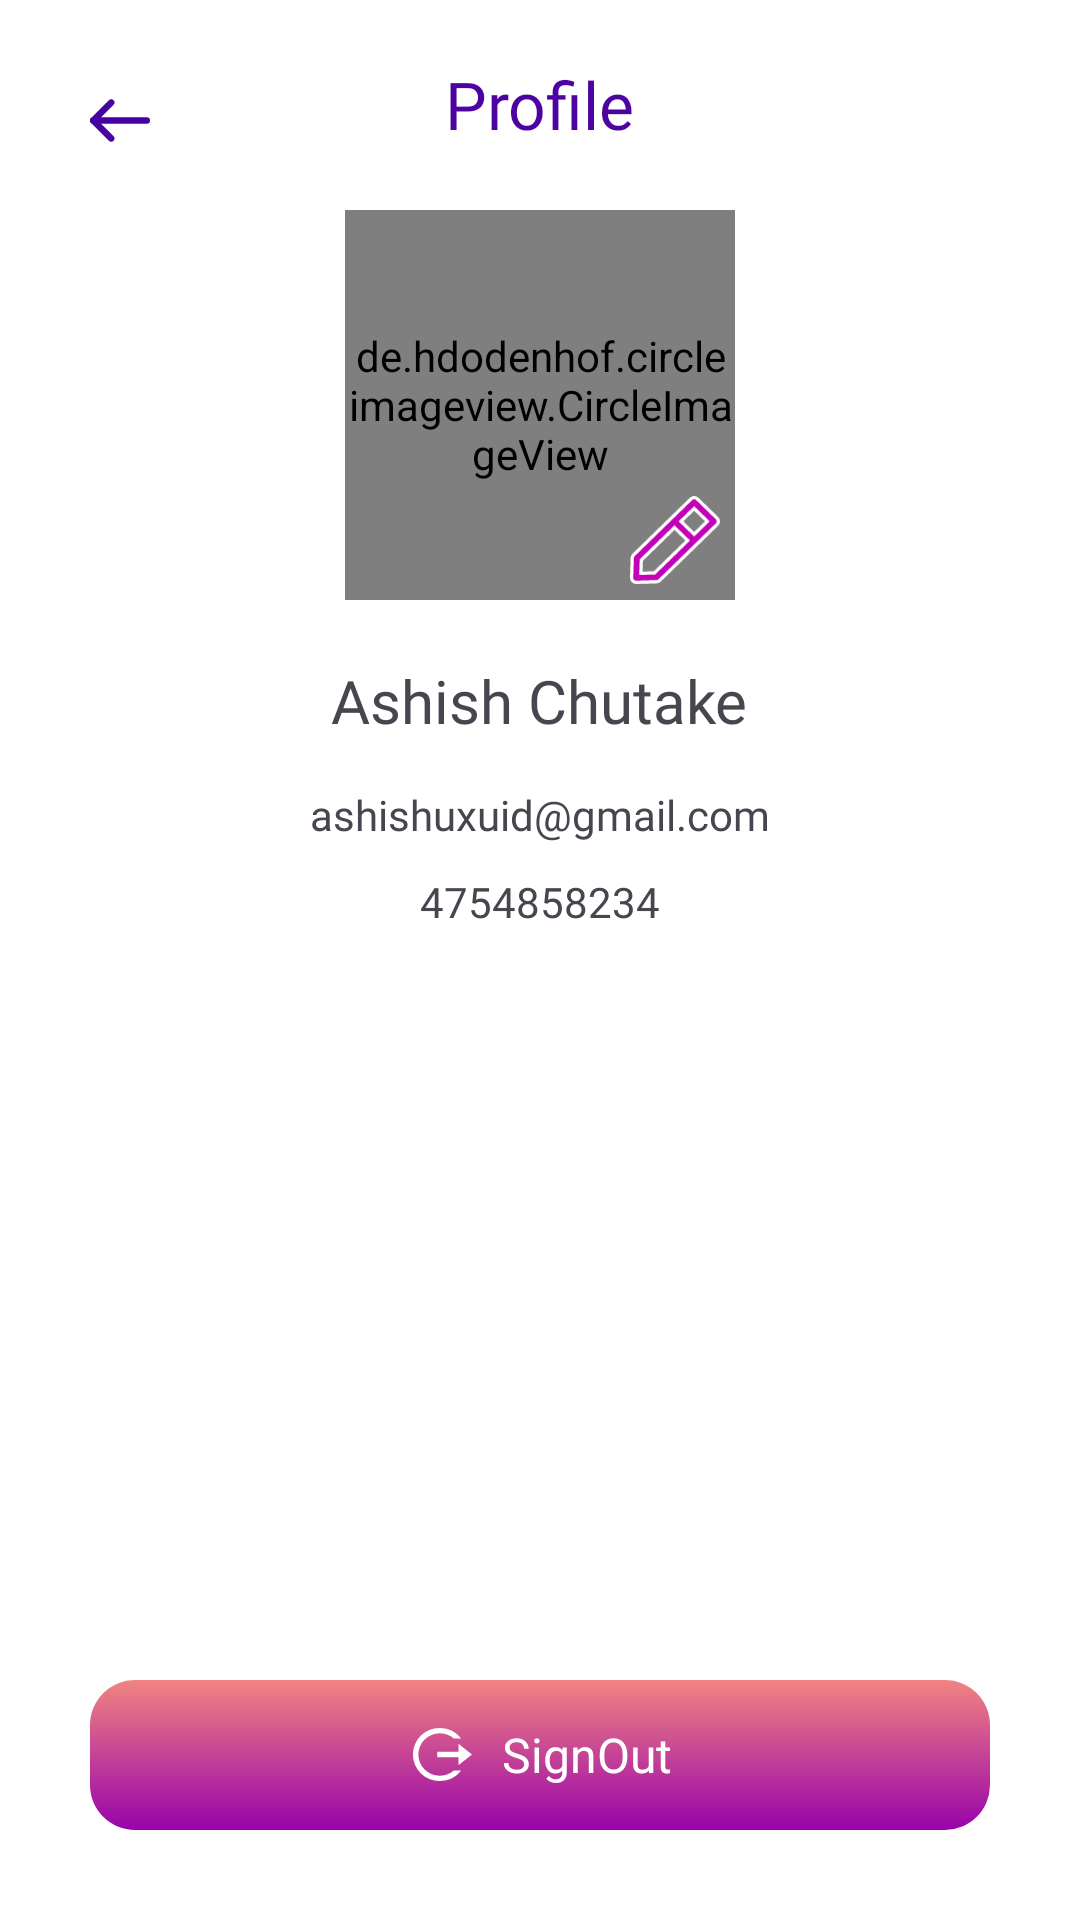

Icon click points for this 1080x1920 phone screenshot, format [x,y]:
back arrow: [120,120]
pen: [675,540]
